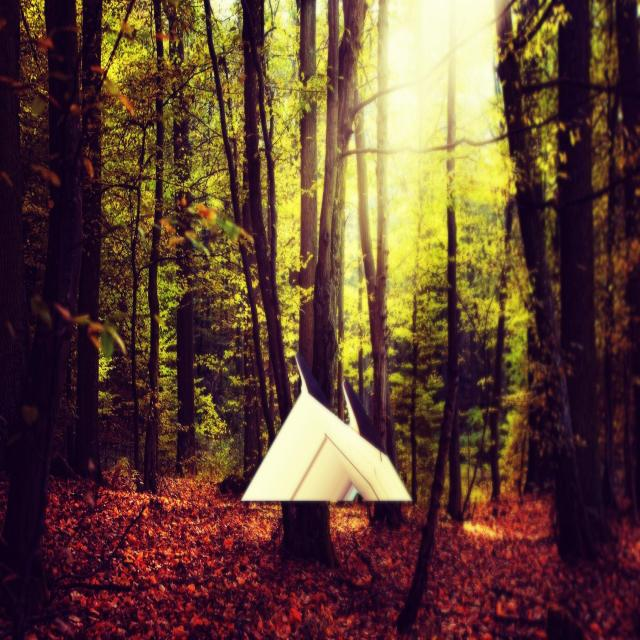airplane: (240, 351, 412, 505)
